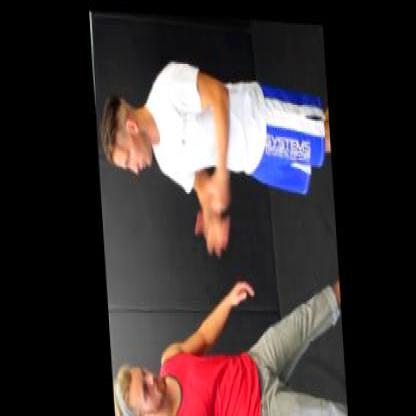knife: (277, 411, 313, 414)
